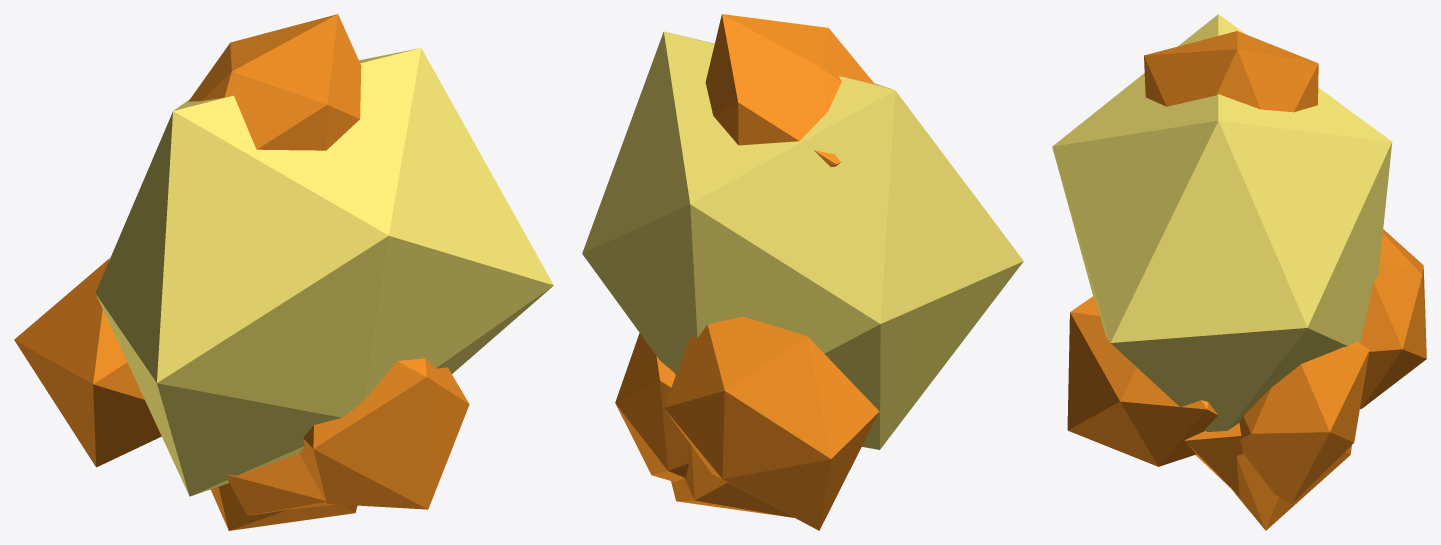
File: frame_2.glb
The picture shows the model from 3 angles, left to right: view 1: azimuth 30°, elevation 25°; view 2: azimuth 150°, elevation 25°; view 3: azimuth 270°, elevation 25°; orthographic projection. The views are drawn at different scales.
Visible parts, largest first — view 1: effect_explosion_large_frame_2; view 2: effect_explosion_large_frame_2; view 3: effect_explosion_large_frame_2.
Boxes of the visible parts, x1=… form: effect_explosion_large_frame_2: x1=14, y1=14, x2=553, y2=530; effect_explosion_large_frame_2: x1=582, y1=14, x2=1023, y2=530; effect_explosion_large_frame_2: x1=1052, y1=14, x2=1426, y2=530.
Size of the model in its own units: 9.14 by 11.39 by 8.28.
